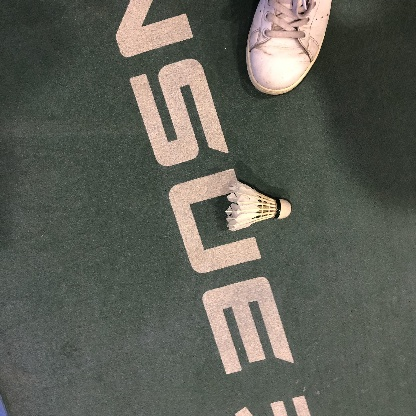ball_single: (225, 181, 291, 231)
